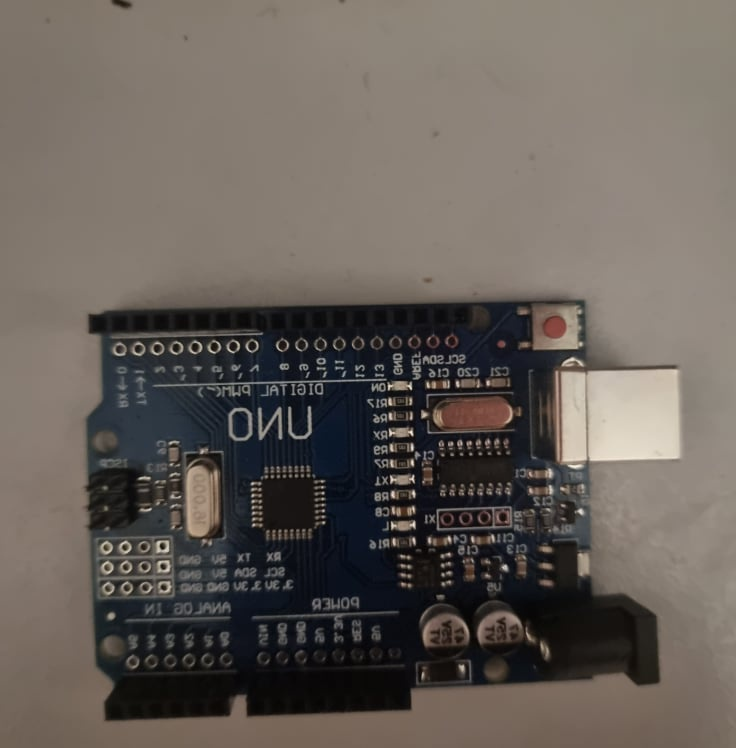UNO R3: (81, 299, 683, 724)
